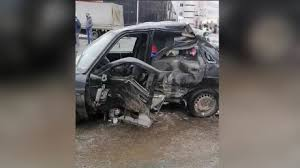car: (76, 20, 216, 120)
